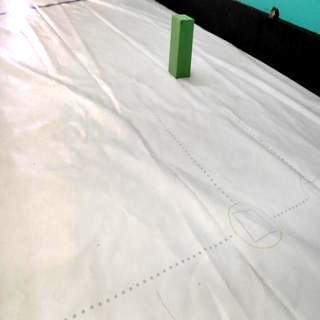greenbox: (167, 12, 194, 78)
